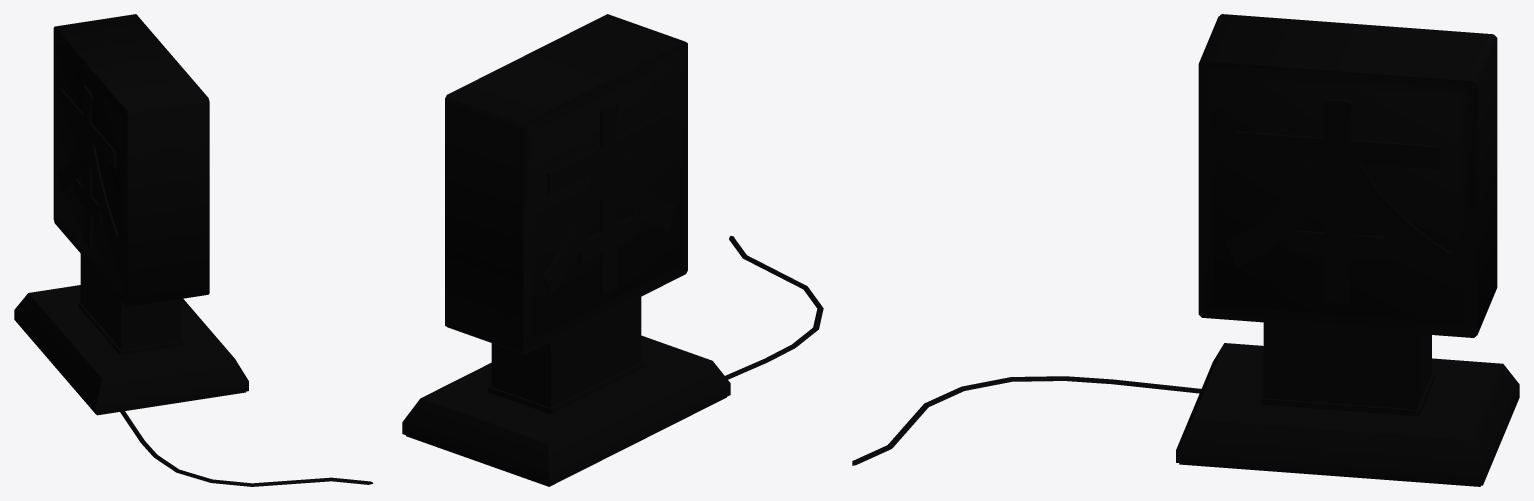
3 views of the same model, side by side, from view 1: azimuth 30°, elevation 25°; view 2: azimuth 150°, elevation 25°; view 3: azimuth 270°, elevation 25° (orthographic). The views are drawn at different scales.
Visible parts, largest first — view 1: Joint_0_Object_1, Joint_0_Object_0; view 2: Joint_0_Object_1, Joint_0_Object_0; view 3: Joint_0_Object_1, Joint_0_Object_0.
Boxes of the visible parts, x1,y1,x2,y2 form: Joint_0_Object_1: [14, 14, 248, 414]; Joint_0_Object_0: [96, 391, 373, 486]; Joint_0_Object_1: [402, 14, 730, 485]; Joint_0_Object_0: [406, 236, 823, 486]; Joint_0_Object_1: [1176, 14, 1519, 485]; Joint_0_Object_0: [852, 376, 1480, 486].
Bounding box in the file's own units: 930 × 1500 × 2357.
Materials: 2 (2 with a texture image).
